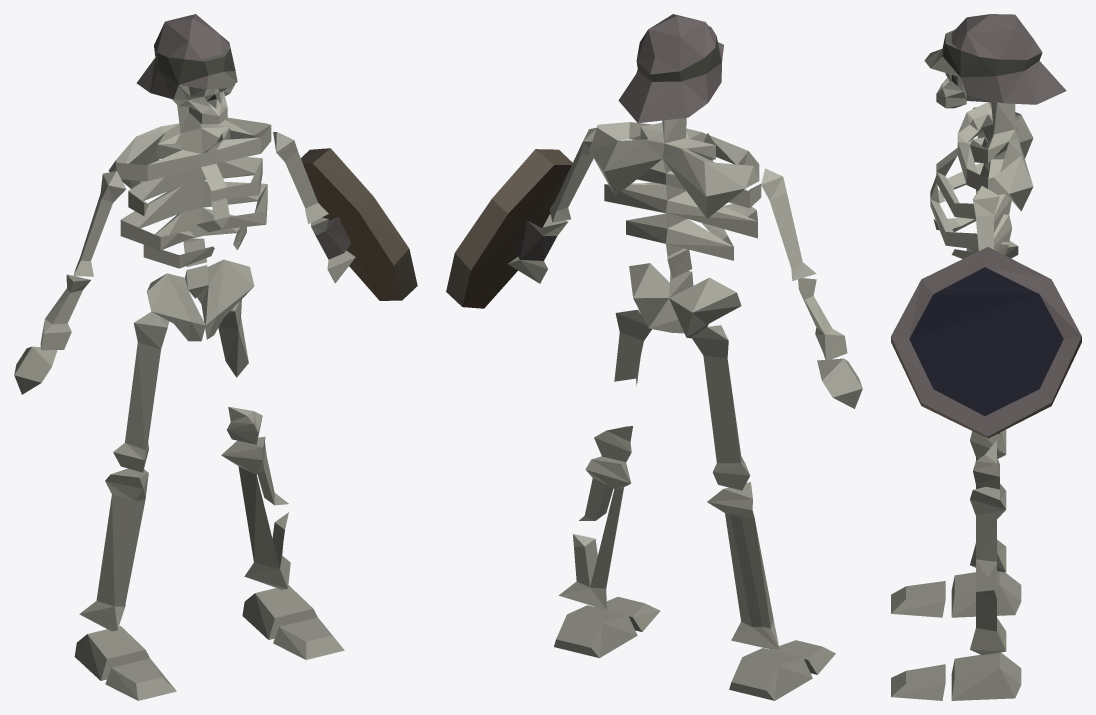
File: skeleton.glb
3 renders of one model, left to right at view 1: azimuth 30°, elevation 25°; view 2: azimuth 150°, elevation 25°; view 3: azimuth 270°, elevation 25°, orthographic. The views are drawn at different scales.
Size of the model in its own units: 148 by 230 by 63.
1 material, 1 textured.
